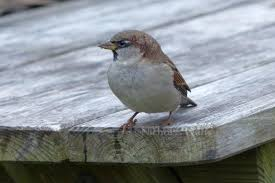hsparrow: (95, 29, 198, 144)
